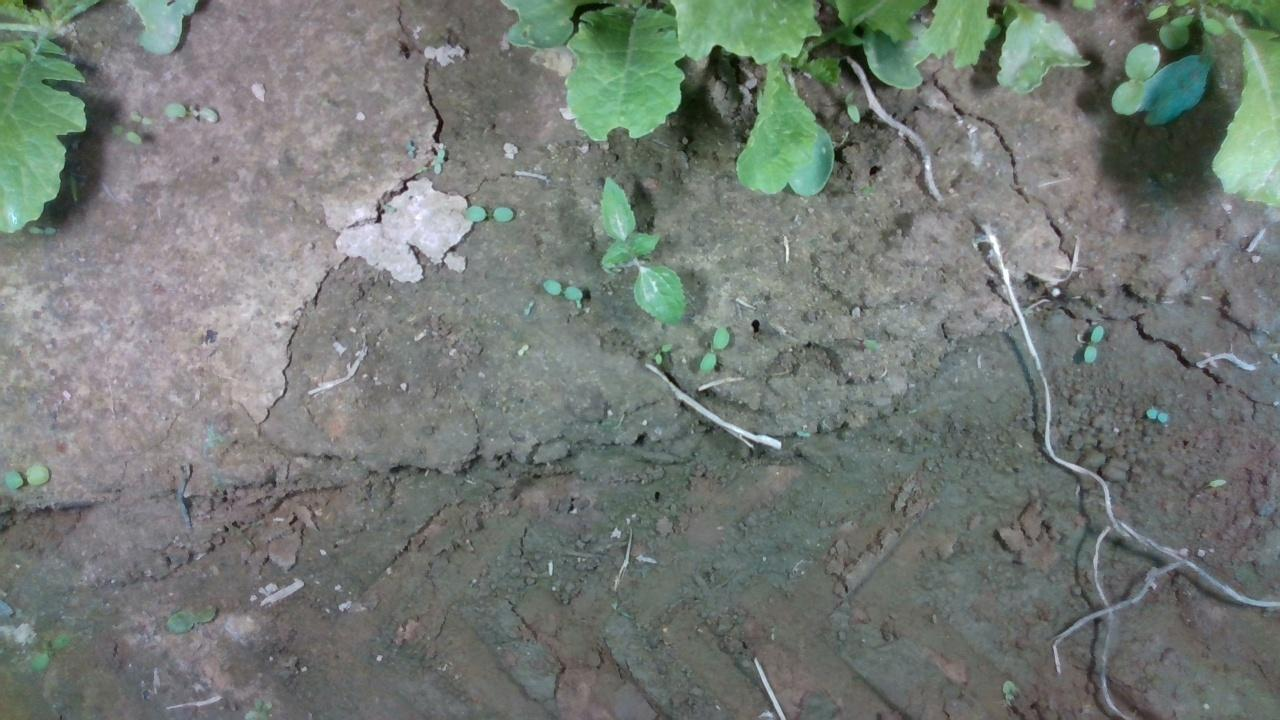weed: (596, 173, 686, 328), (696, 324, 730, 376), (2, 463, 50, 490), (163, 100, 219, 123), (460, 203, 515, 222), (1082, 323, 1103, 363), (109, 123, 143, 145), (652, 340, 674, 366), (427, 146, 446, 173), (125, 109, 153, 126), (1144, 406, 1167, 423), (403, 138, 415, 158), (521, 297, 535, 314), (515, 341, 528, 357)
